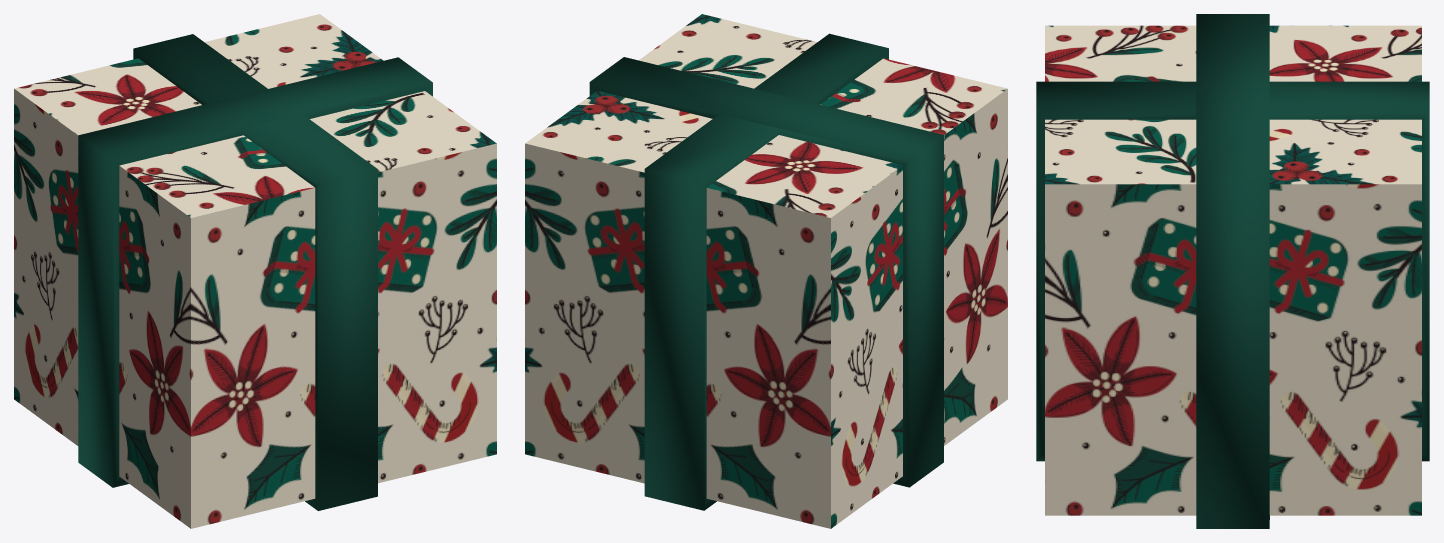
The model's file is giftSmallWhite2.glb.
The picture shows the model from 3 angles, left to right: view 1: azimuth 30°, elevation 25°; view 2: azimuth 150°, elevation 25°; view 3: azimuth 270°, elevation 25°; orthographic projection. The views are drawn at different scales.
Visible parts, largest first — view 1: GiftSmallWhite2; view 2: GiftSmallWhite2; view 3: GiftSmallWhite2.
Part boxes in pixels (box(x1,y1,x2,y2)): GiftSmallWhite2: box(14, 14, 496, 528); GiftSmallWhite2: box(525, 14, 1007, 528); GiftSmallWhite2: box(1036, 14, 1429, 528).
Size of what is drawn, in the model's own units: 0.6371 by 0.6227 by 0.6371.
1 material, 1 textured.
